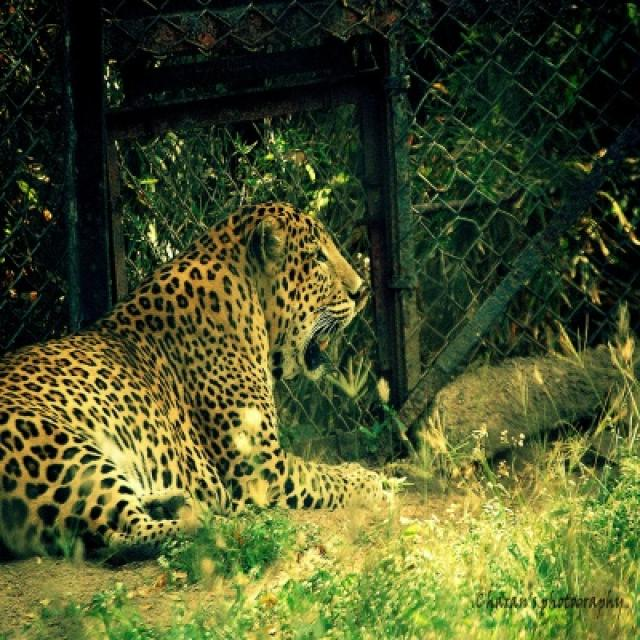Jaguar: (0, 205, 365, 568)
